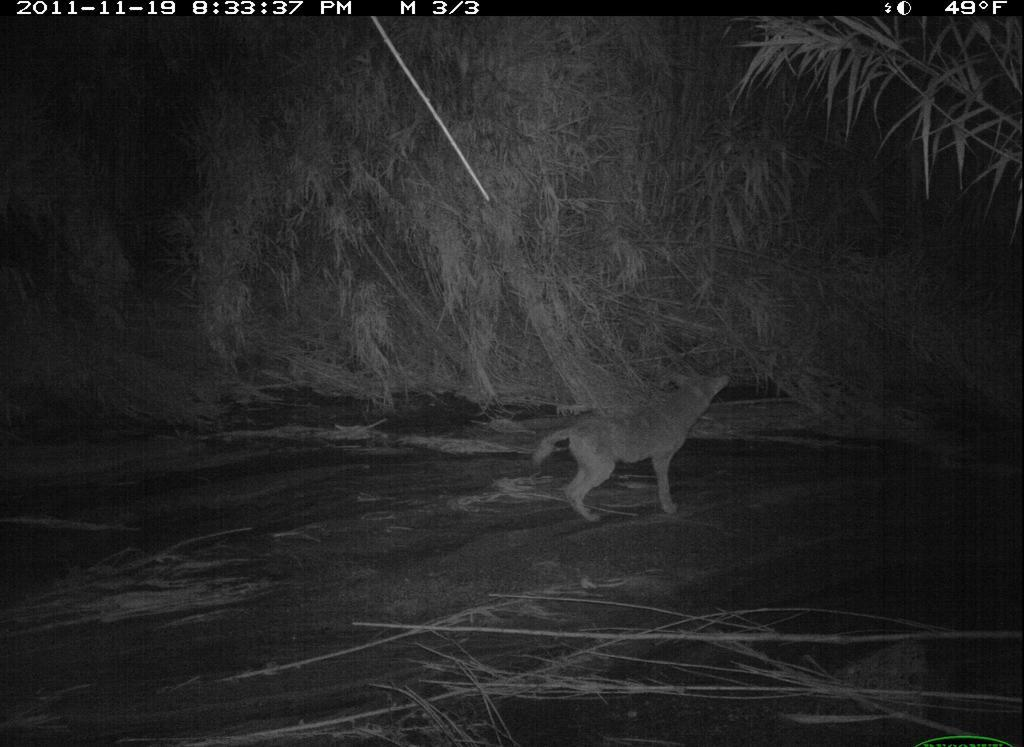coyote: (533, 354, 743, 550)
